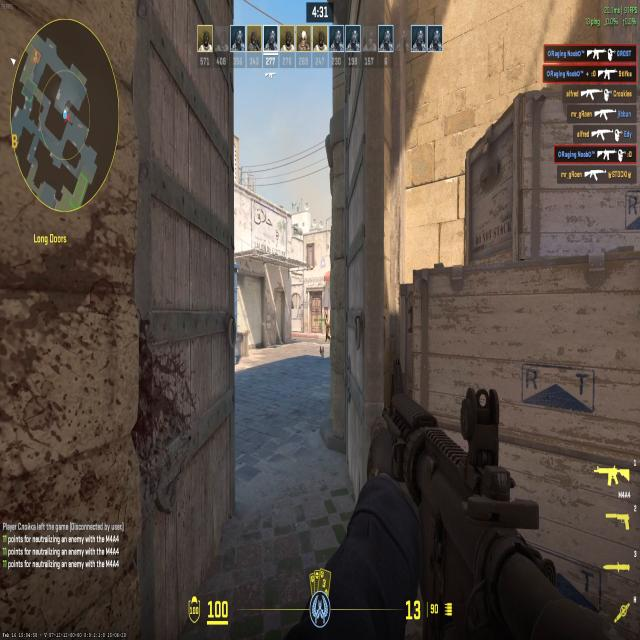player: (321, 309, 332, 342)
